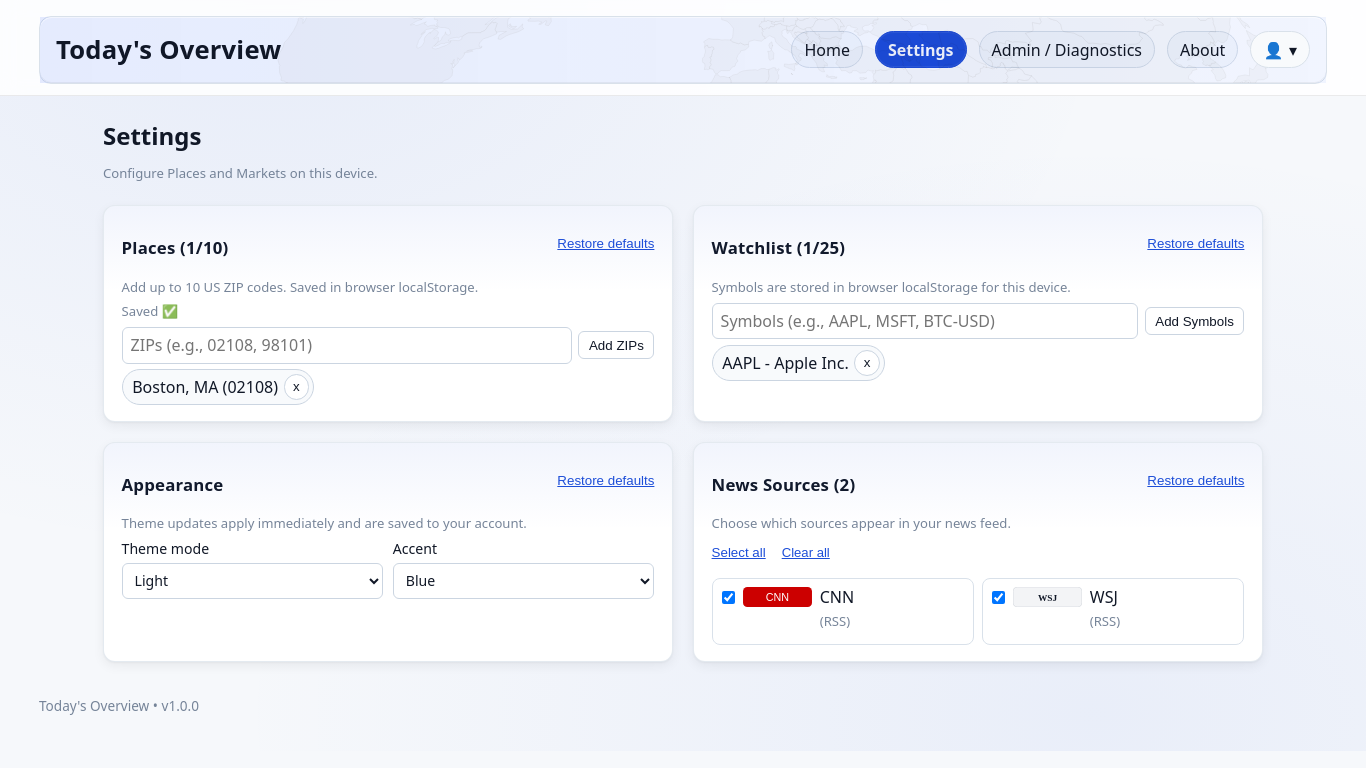
App › bulk adds ZIPs and symbols with invalid entries filtered
In the field with placeholder "ZIPs (e.g., 02108, 98101)": (347,345) [122,327,572,364], type "02108, 1234, 98101, 02108"
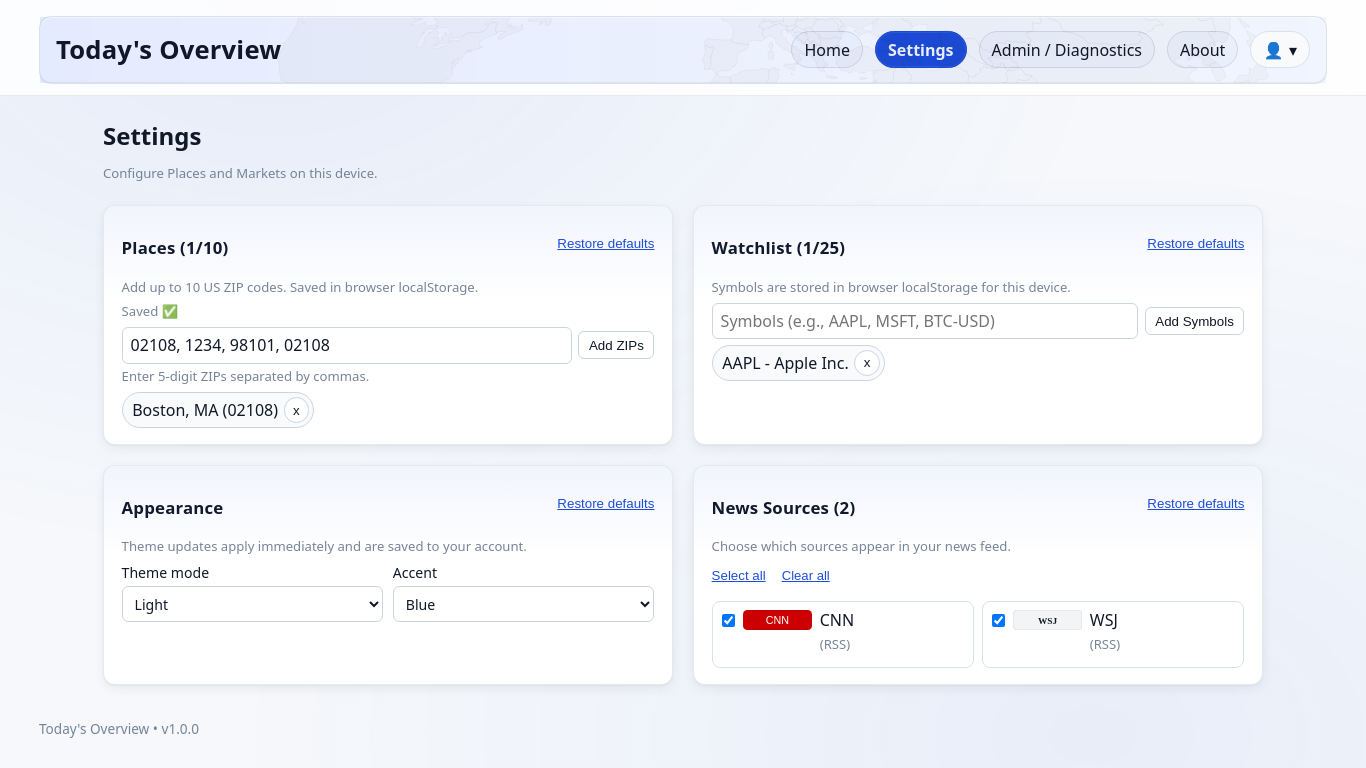
Submit the form with placeholder "ZIPs (e.g., 02108, 98101)", box [122,327,654,364]
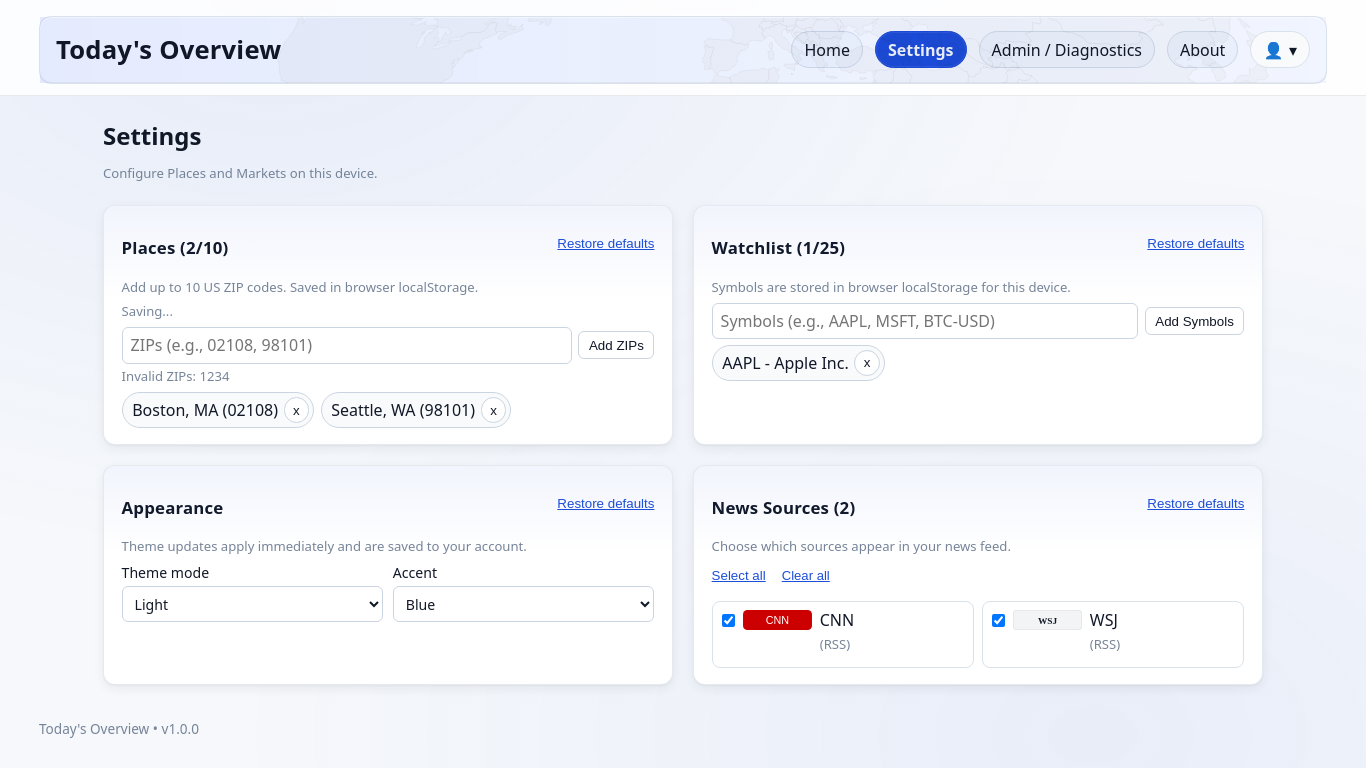
In the field with placeholder "Symbols (e.g., AAPL, MSFT, BTC-USD)": (925,321) [712,303,1138,339], type "aapl, msft, $bad, btc-usd, aapl"
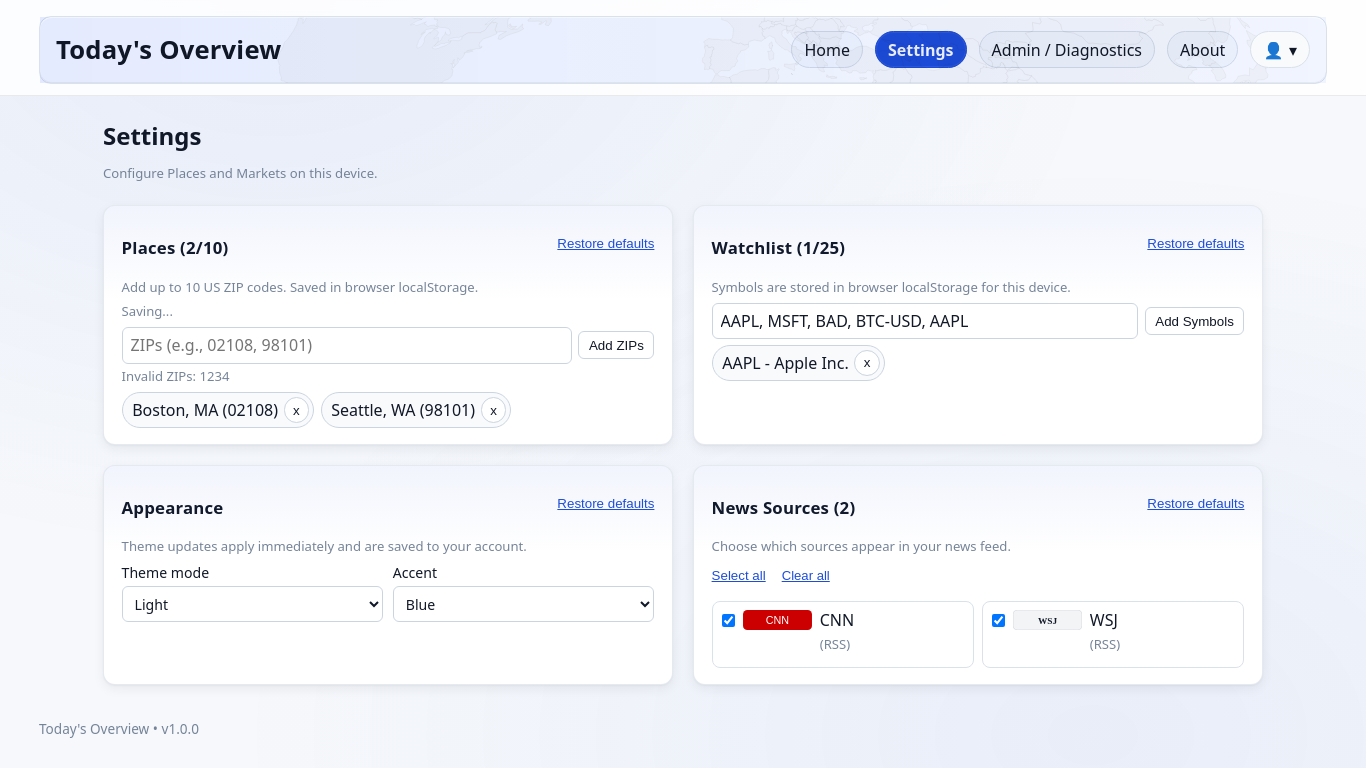
Submit the form with placeholder "Symbols (e.g., AAPL, MSFT, BTC-USD)", box [712,303,1244,339]
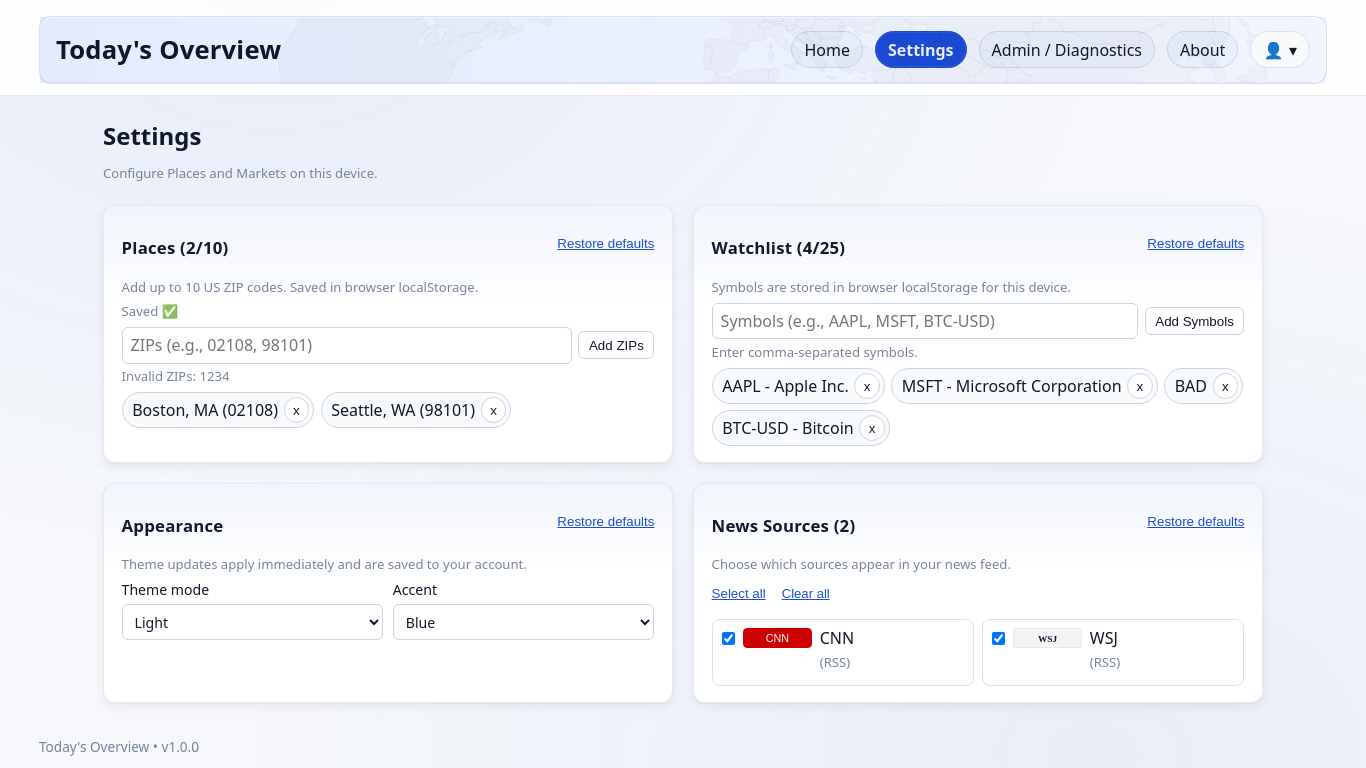
Check: the text "Seattle, WA (98101)" is shown, box [331,399,475,421]
Check: the text "MSFT - Microsoft Corporation" is shown, box [902,375,1122,397]
Check: the text "BTC-USD - Bitcoin" is shown, box [722,417,854,439]
